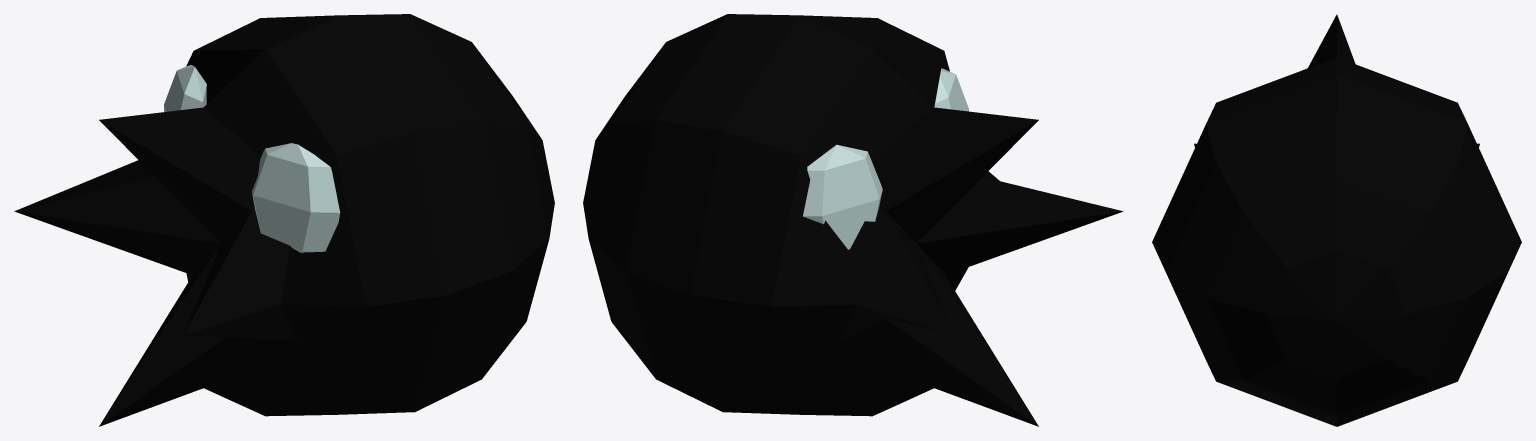
The model's file is FogMonster.fbx.
3 renders of one model, left to right at view 1: azimuth 30°, elevation 25°; view 2: azimuth 150°, elevation 25°; view 3: azimuth 270°, elevation 25°, orthographic. The views are drawn at different scales.
Parts seen in each view (by area): view 1: pSphere1, pSphere2; view 2: pSphere1, pSphere2; view 3: pSphere1.
Part boxes in pixels (x1,y1,x2,y2): pSphere1: (14, 14, 554, 426); pSphere2: (164, 65, 340, 252); pSphere1: (583, 14, 1123, 426); pSphere2: (803, 68, 968, 249); pSphere1: (1152, 14, 1521, 426).
Size of the model in its own units: 15.82 by 14 by 14.
